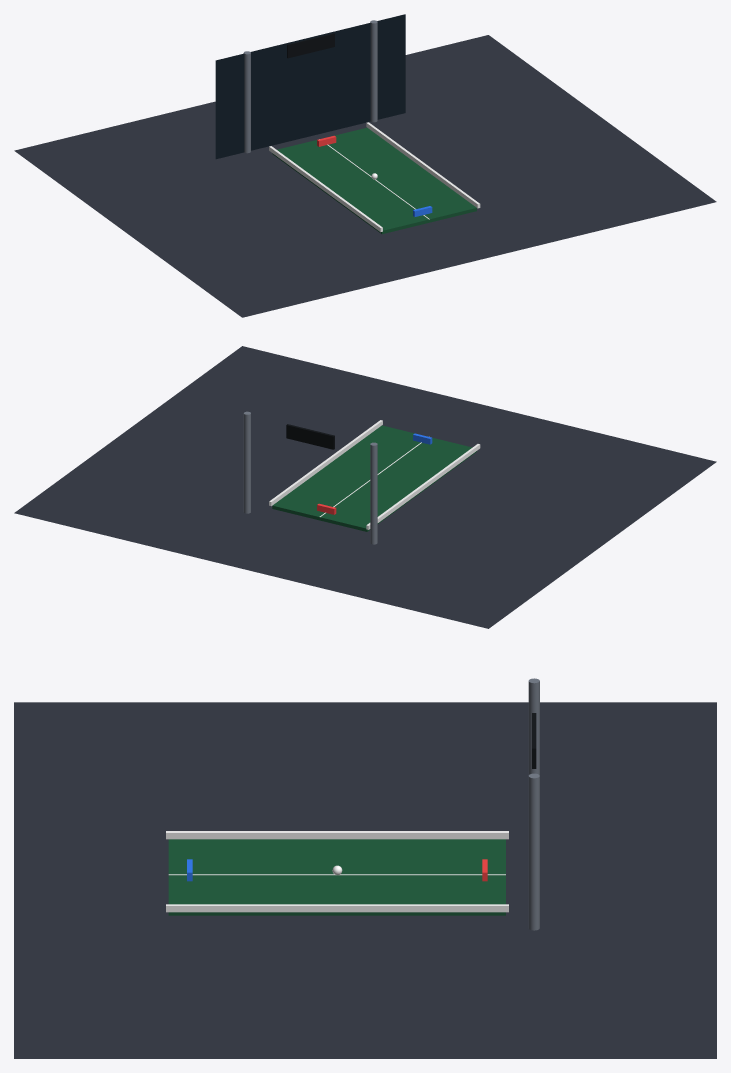
File: pong.glb
3 renders of one model, top to bottom at view 1: azimuth 30°, elevation 25°; view 2: azimuth 150°, elevation 25°; view 3: azimuth 270°, elevation 25°, orthographic. The views are drawn at different scales.
Visible parts, largest first — view 1: Floor, Backdrop, Table, Pillar Right, Rail Right, Rail Left, Pillar Left, Scoreboard; view 2: Floor, Table, Pillar Left, Pillar Right, Rail Right, Rail Left, Scoreboard; view 3: Floor, Table, Rail Left, Rail Right, Pillar Right, Pillar Left, Center Line.
Part boxes in pixels (x1,y1,x2,y2): Floor: (14, 35, 716, 317); Backdrop: (215, 14, 405, 159); Table: (272, 127, 476, 234); Pillar Right: (370, 20, 377, 122); Rail Right: (366, 122, 480, 208); Rail Left: (269, 146, 382, 232); Pillar Left: (243, 51, 250, 153); Scoreboard: (287, 33, 334, 58); Floor: (14, 346, 716, 628); Table: (272, 425, 476, 531); Pillar Left: (370, 442, 377, 544); Pillar Right: (243, 411, 250, 513); Rail Right: (269, 420, 382, 506); Rail Left: (366, 444, 480, 529); Scoreboard: (286, 424, 334, 449); Floor: (14, 702, 716, 1058); Table: (168, 839, 505, 915); Rail Left: (166, 831, 508, 839); Rail Right: (166, 904, 508, 912); Pillar Right: (528, 773, 539, 930); Pillar Left: (528, 678, 539, 775); Center Line: (168, 874, 505, 875).
Bounding box in the file's own units: 60 × 12 × 50.
